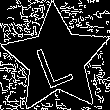L_N: (33, 31, 79, 88)
